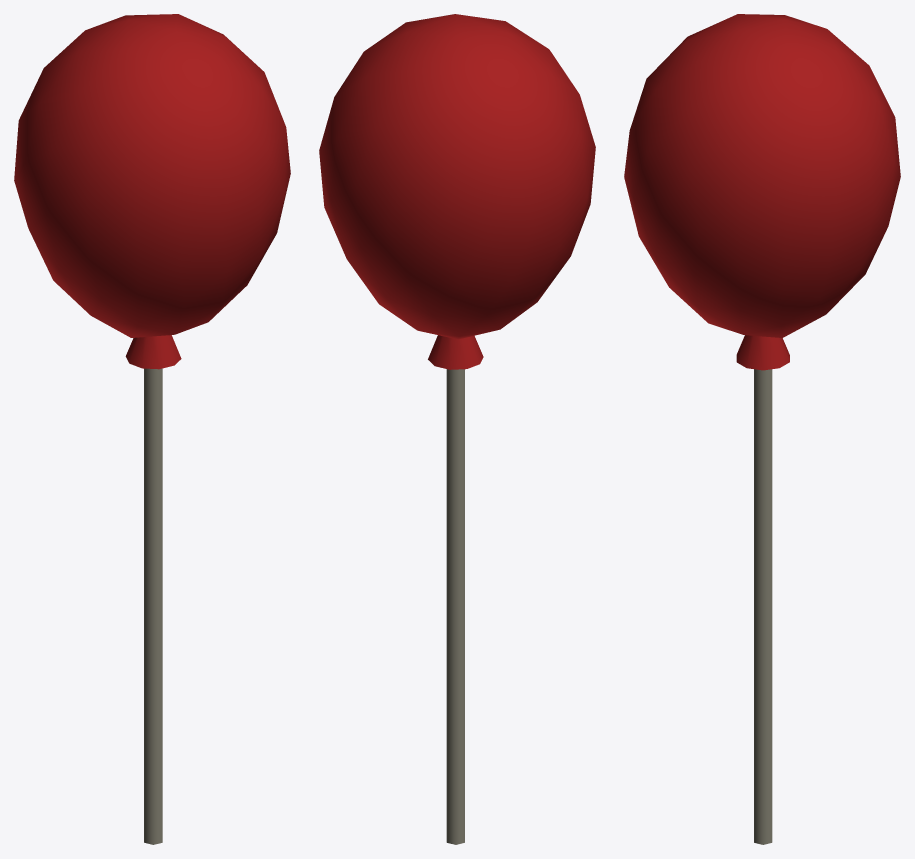
The model's file is baloon_02.fbx.
3 renders of one model, left to right at view 1: azimuth 30°, elevation 25°; view 2: azimuth 150°, elevation 25°; view 3: azimuth 270°, elevation 25°, orthographic.
Parts seen in each view (by area): view 1: baloon_02; view 2: baloon_02; view 3: baloon_02.
Boxes of the visible parts, x1=… form: baloon_02: x1=14, y1=14, x2=290, y2=844; baloon_02: x1=319, y1=14, x2=595, y2=844; baloon_02: x1=624, y1=14, x2=900, y2=844.
Bounding box in the file's own units: 75.08 × 247 × 76.18.
